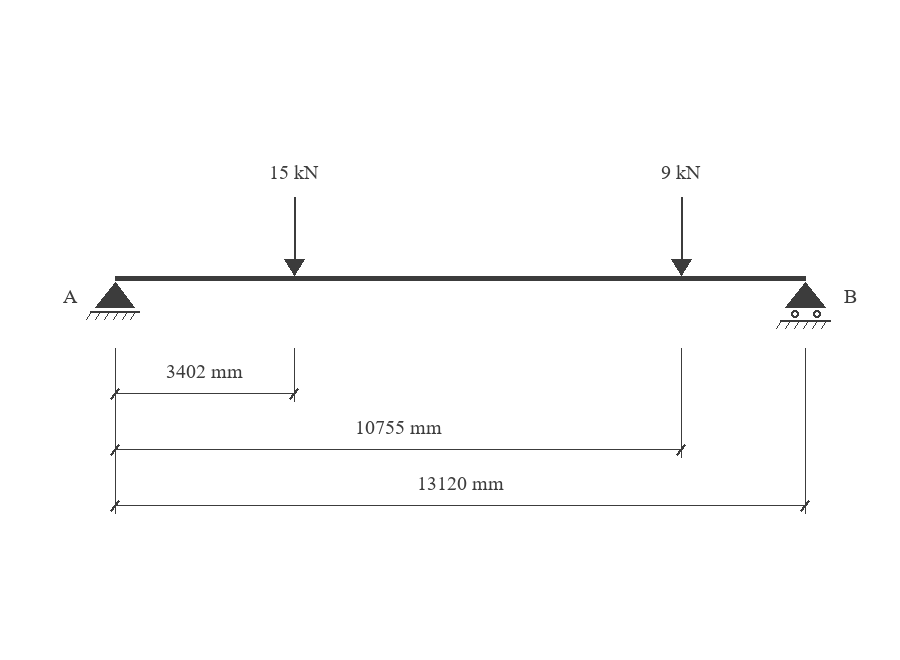pin_support: (86, 282, 140, 320)
point_load: (284, 197, 305, 276), (671, 197, 692, 276)
roller_support: (776, 282, 831, 329)
